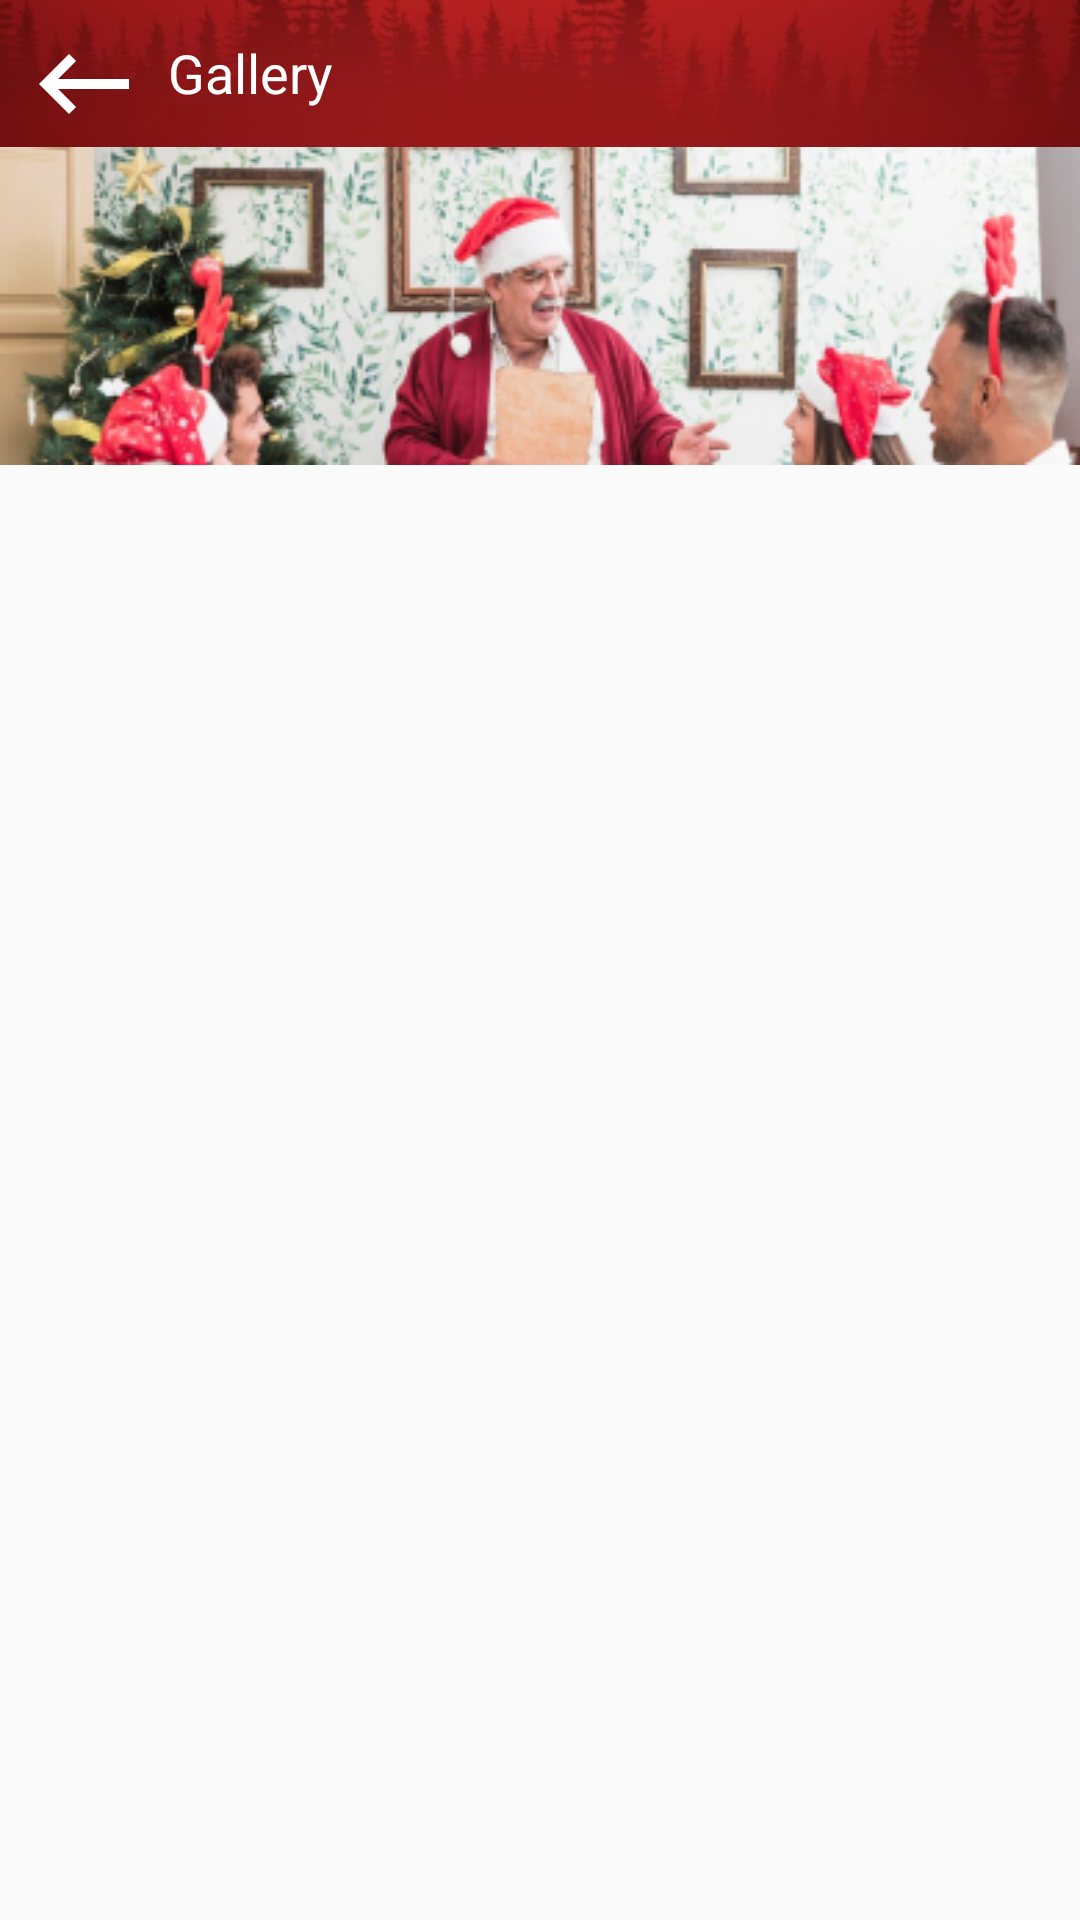

Point at icon controls on the screen. Image size 1080 x 1920, points as point (x, y).
back arrow: point (84, 84)
